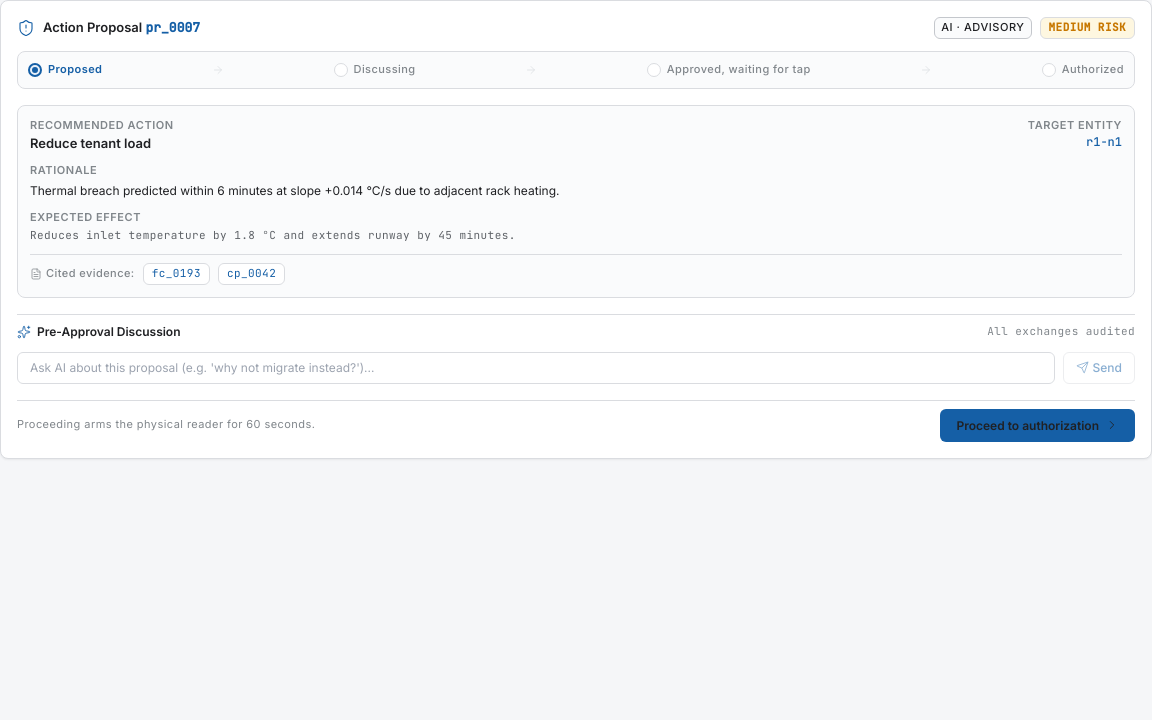
Test: Phase 6 Approval, AI Advisory, and Audit Log Tests › ProposalCard Component › initiates approval on Proceed button click and enters waiting-for-tap state
The width and height of the screenshot is (1152, 720).
Click the button with aria-label "Proceed to physical RFID authorization" at (1038,425), box left=940, top=409, right=1135, bottom=442
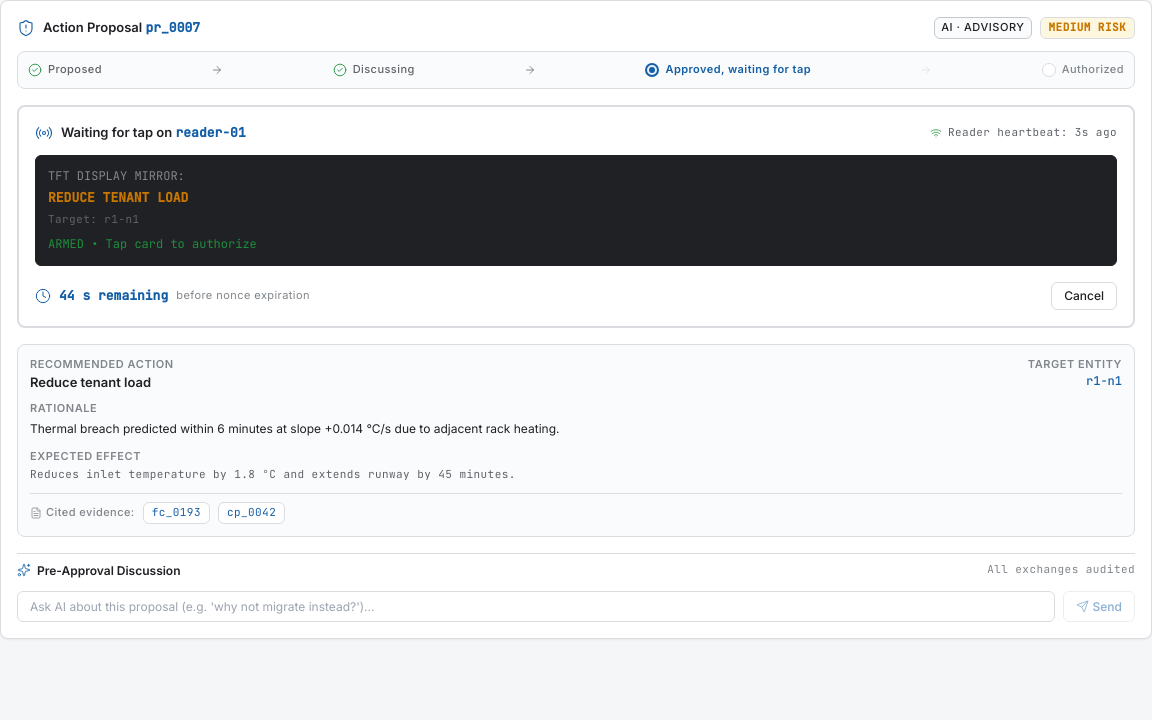
expect the element with test id "waiting-for-tap-banner" is shown: met, box left=17, top=105, right=1135, bottom=328
expect the text "Waiting for tap on reader-01" is shown: met, box left=61, top=123, right=246, bottom=143
expect the text "reader-01" is shown: met, box left=176, top=124, right=246, bottom=141
